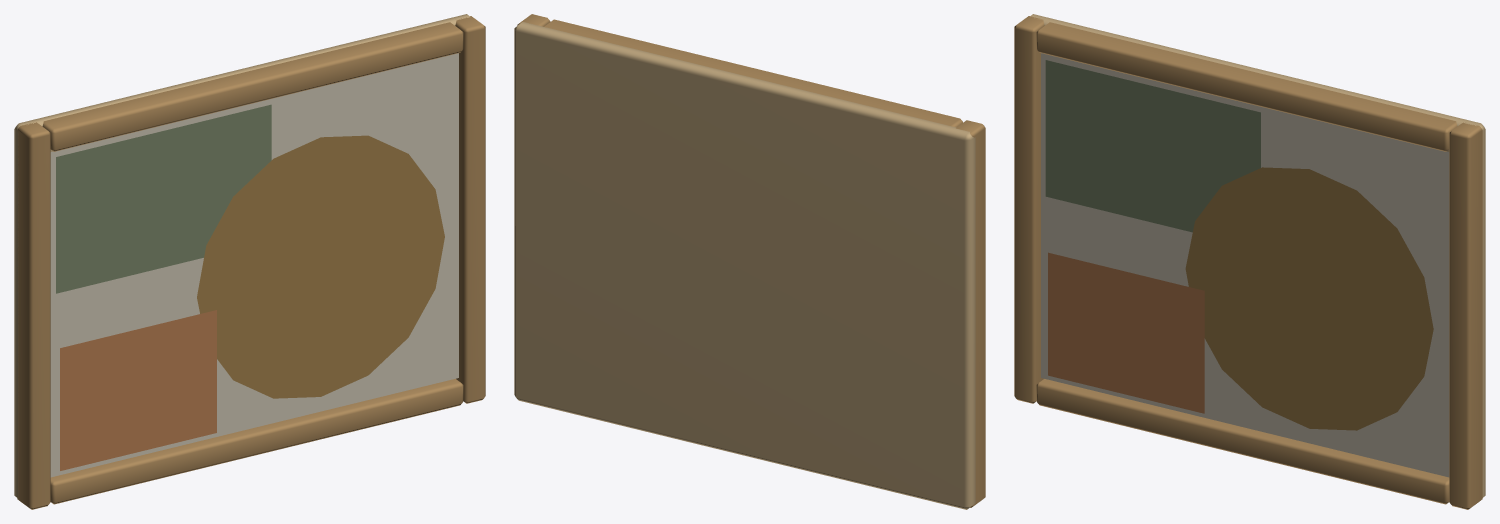
The model's file is abstract_frame_05.glb.
The picture shows the model from 3 angles, left to right: view 1: azimuth 30°, elevation 25°; view 2: azimuth 150°, elevation 25°; view 3: azimuth 330°, elevation 25°; orthographic projection.
Visible parts, largest first — view 1: Body; view 2: Body; view 3: Body.
Part boxes in pixels (x1,y1,x2,y2): Body: (14,14,485,509); Body: (514,14,985,509); Body: (1014,14,1485,509).
Bounding box in the file's own units: 0.7 × 0.55 × 0.05.
